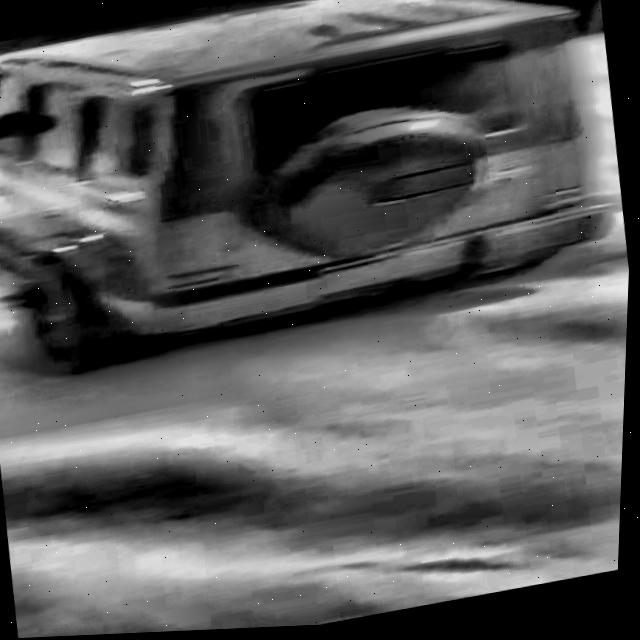light_vehicle: (0, 0, 635, 392)
